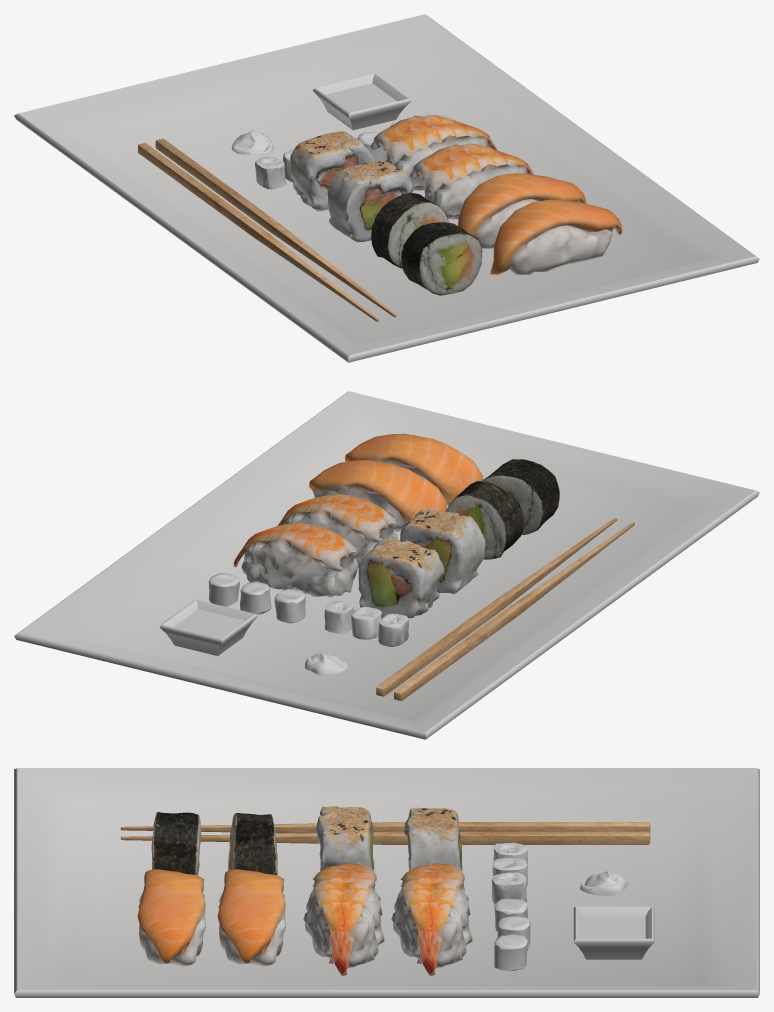
File: Sushi_Separat.fbx
The picture shows the model from 3 angles, top to bottom: view 1: azimuth 30°, elevation 25°; view 2: azimuth 150°, elevation 25°; view 3: azimuth 270°, elevation 25°; orthographic projection. The views are drawn at different scales.
Parts seen in each view (by area): view 1: Sushi_Plate, Sushi_Nigiri_01, Sushi_Maki_01, Sushi_Ebi_01, Sushi_Nigiri_02, Sushi_Uramaki_01, Sushi_Ebi_02, Sushi_Uramaki_02, Sushi_Maki_02, Sushi_HosoMaki_06; view 2: Sushi_Plate, Sushi_Ebi_02, Sushi_Uramaki_02, Sushi_Nigiri_02, Sushi_Nigiri_01, Sushi_Uramaki_01, Sushi_Ebi_01, Sushi_Maki_02, Sushi_Maki_01, Sushi_HosoMaki_03, Sushi_HosoMaki_06, Sushi_HosoMaki_01 (+3 smaller); view 3: Sushi_Plate, Sushi_Ebi_02, Sushi_Ebi_01, Sushi_Nigiri_01, Sushi_Nigiri_02, Sushi_Uramaki_01, Sushi_Uramaki_02, Sushi_Maki_01, Sushi_Maki_02, Sushi_HosoMaki_01, Sushi_HosoMaki_04, Sushi_HosoMaki_02 (+3 smaller).
Part boxes in pixels (bbox=[...]): Sushi_Plate: bbox=[14, 14, 759, 362]; Sushi_Nigiri_01: bbox=[490, 199, 622, 274]; Sushi_Maki_01: bbox=[401, 222, 482, 295]; Sushi_Ebi_01: bbox=[410, 143, 534, 219]; Sushi_Nigiri_02: bbox=[458, 173, 586, 248]; Sushi_Uramaki_01: bbox=[327, 161, 413, 242]; Sushi_Ebi_02: bbox=[370, 115, 497, 190]; Sushi_Uramaki_02: bbox=[290, 131, 374, 211]; Sushi_Maki_02: bbox=[371, 192, 449, 268]; Sushi_HosoMaki_06: bbox=[255, 156, 286, 189]; Sushi_Plate: bbox=[14, 391, 759, 739]; Sushi_Ebi_02: bbox=[233, 522, 358, 597]; Sushi_Uramaki_02: bbox=[358, 536, 444, 618]; Sushi_Nigiri_02: bbox=[309, 460, 446, 531]; Sushi_Nigiri_01: bbox=[345, 433, 482, 505]; Sushi_Uramaki_01: bbox=[400, 508, 485, 594]; Sushi_Ebi_01: bbox=[278, 493, 397, 567]; Sushi_Maki_02: bbox=[445, 481, 524, 559]; Sushi_Maki_01: bbox=[482, 459, 559, 534]; Sushi_HosoMaki_03: bbox=[274, 589, 305, 623]; Sushi_HosoMaki_06: bbox=[378, 613, 408, 646]; Sushi_HosoMaki_01: bbox=[208, 573, 239, 606]; Sushi_Plate: bbox=[14, 768, 759, 997]; Sushi_Ebi_02: bbox=[391, 863, 472, 975]; Sushi_Ebi_01: bbox=[303, 863, 384, 975]; Sushi_Nigiri_01: bbox=[137, 869, 205, 966]; Sushi_Nigiri_02: bbox=[217, 869, 285, 966]; Sushi_Uramaki_01: bbox=[316, 806, 374, 871]; Sushi_Uramaki_02: bbox=[404, 807, 464, 891]; Sushi_Maki_01: bbox=[151, 812, 201, 875]; Sushi_Maki_02: bbox=[228, 813, 277, 875]; Sushi_HosoMaki_01: bbox=[494, 934, 527, 970]; Sushi_HosoMaki_04: bbox=[491, 872, 527, 904]; Sushi_HosoMaki_02: bbox=[497, 916, 530, 949].
Size of the model in its own units: 23.12 by 3.74 by 32.42.
